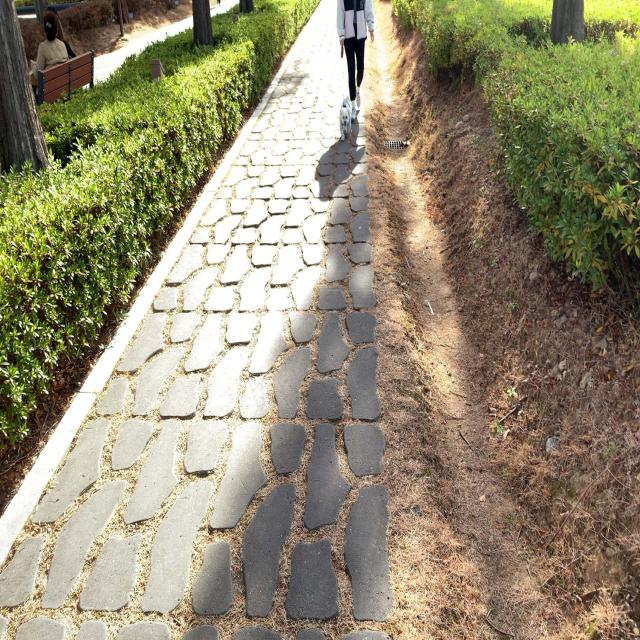Leashed_Dog: (339, 27, 353, 143)
